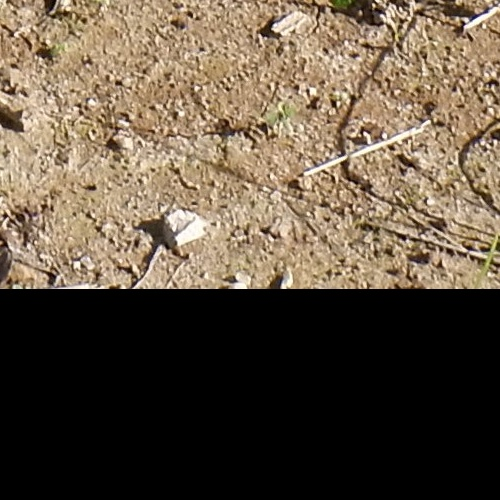immature_boll: (146, 176, 257, 262), (310, 88, 389, 166)
